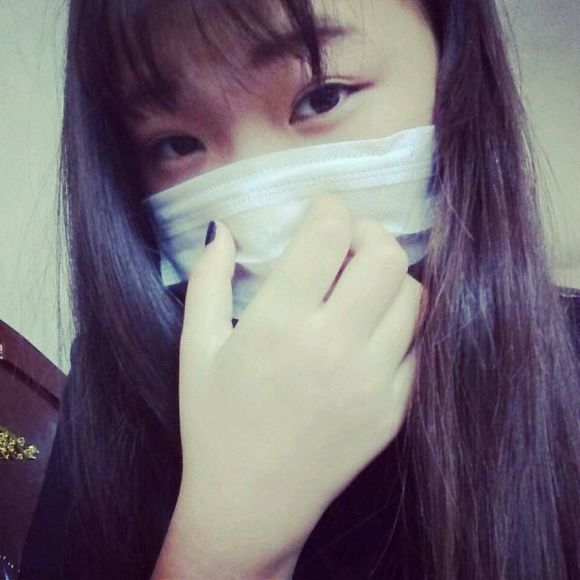face_mask: (114, 0, 429, 383)
